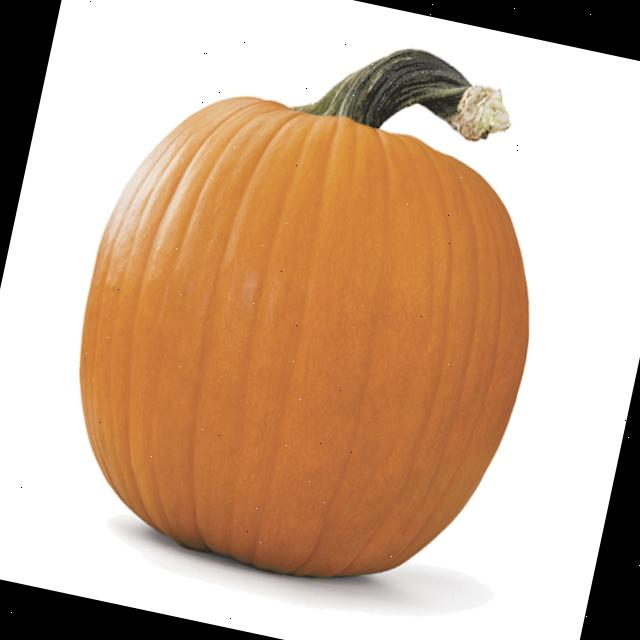pumpkin: (80, 49, 528, 577)
